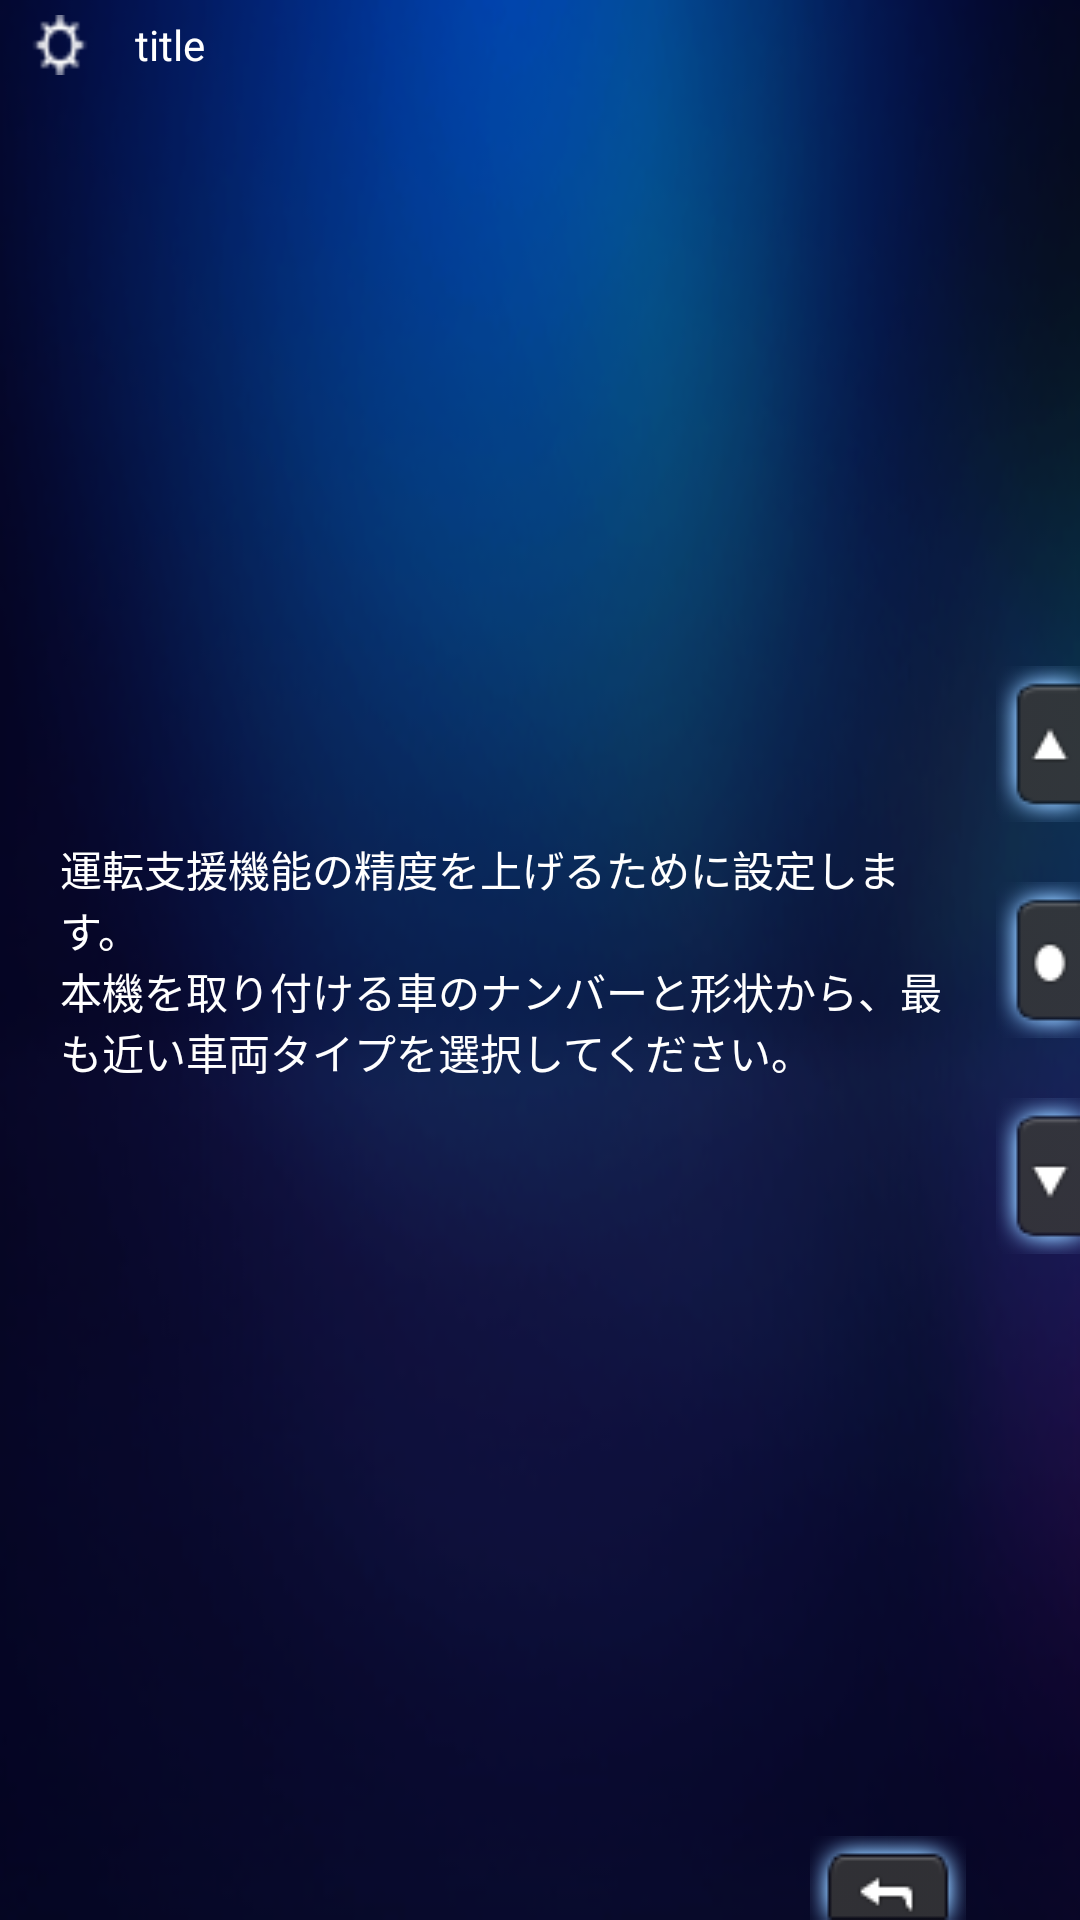

Named icons in this screenshot (1080×1920) and their centers, point (x, y):
sub setting: point (60, 45)
tag menu main back: point (887, 1878)
tag menu main enter: point (1040, 960)
tag menu main movedown: point (1040, 1176)
tag menu main moveup: point (1040, 745)
